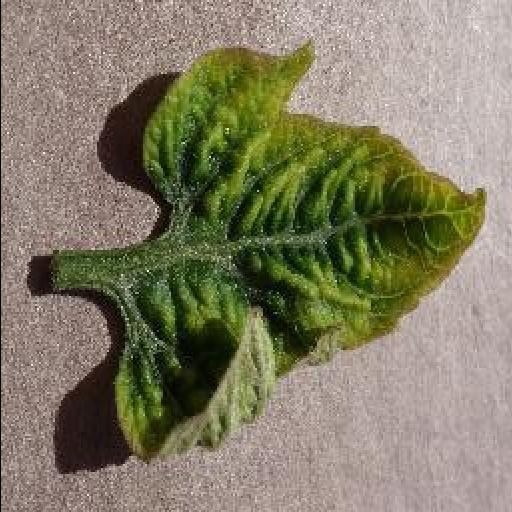disease_tomato: (112, 42, 486, 466)
